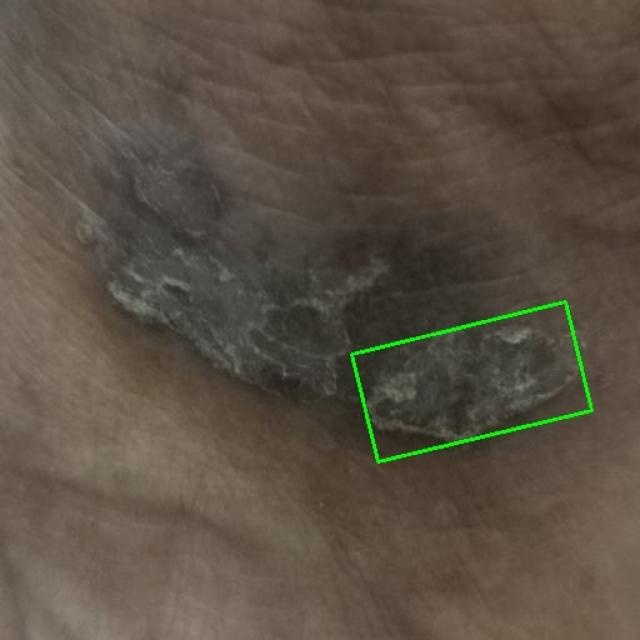Eczema: (352, 302, 592, 462)
